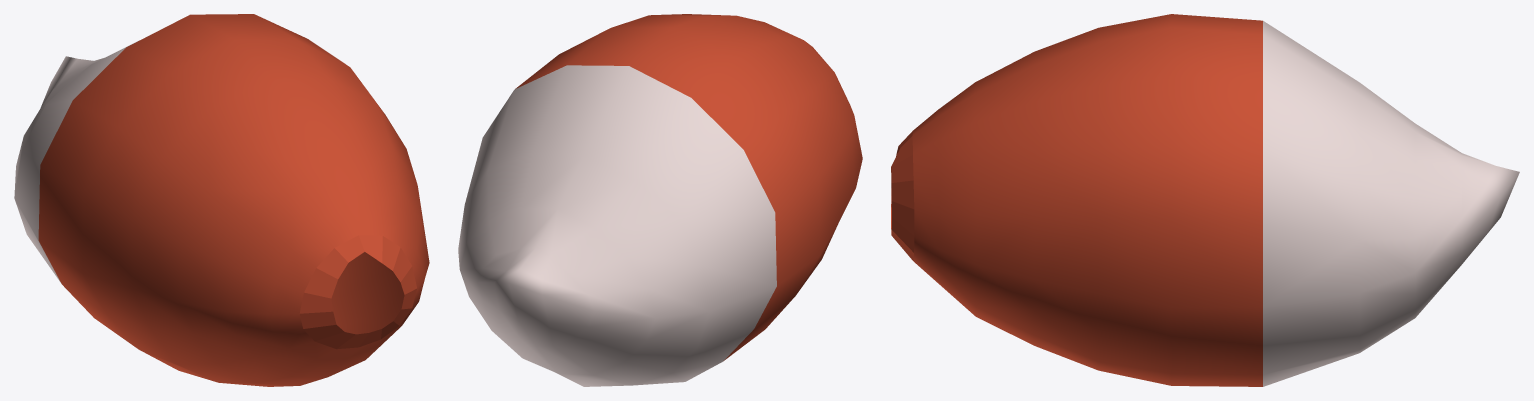
The model's file is PH_renard_tail.fbx.
3 renders of one model, left to right at view 1: azimuth 30°, elevation 25°; view 2: azimuth 150°, elevation 25°; view 3: azimuth 270°, elevation 25°, orthographic. The views are drawn at different scales.
Visible parts, largest first — view 1: polySurface4; view 2: polySurface4; view 3: polySurface4.
Part boxes in pixels (x1,y1,x2,y2): polySurface4: [14, 14, 429, 386]; polySurface4: [458, 14, 862, 386]; polySurface4: [891, 14, 1519, 386].
Bounding box in the file's own units: 27.53 × 28.92 × 47.71.
